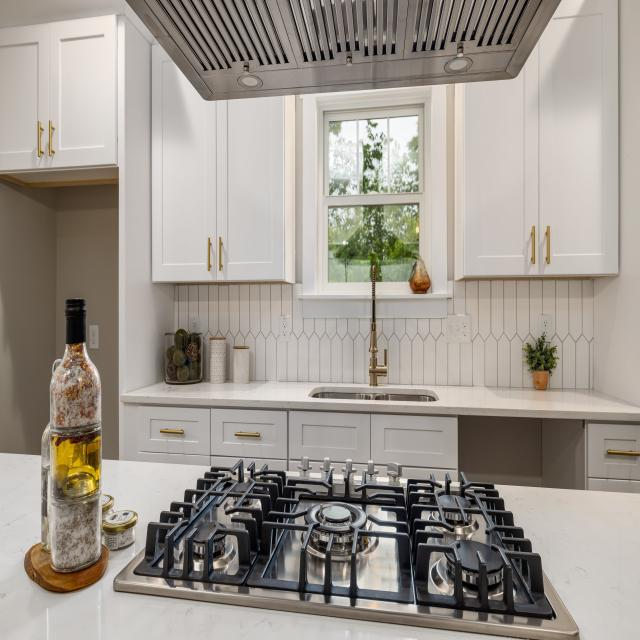Appliance_Sink: (308, 265, 439, 402)
Appliance_Stove: (112, 458, 577, 640)
Cabinet_Shaker: (452, 0, 620, 280), (149, 41, 286, 285), (119, 406, 460, 477), (0, 12, 121, 172), (584, 423, 640, 495)
Countertop_Solid_Surface: (0, 453, 520, 640), (494, 485, 640, 640), (117, 382, 640, 422)
